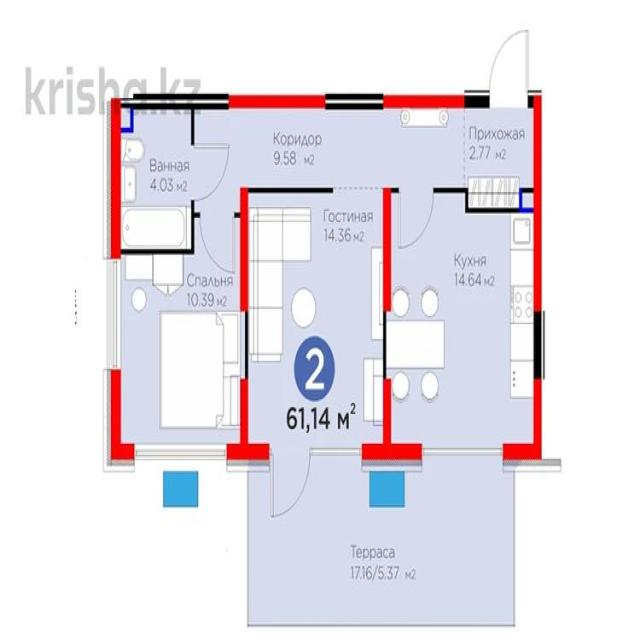balcony: (245, 458, 518, 628)
bathroom: (117, 104, 195, 255)
hallway: (195, 108, 534, 192)
kitchen: (390, 190, 539, 457)
living_room: (245, 195, 386, 451), (114, 255, 247, 458)
